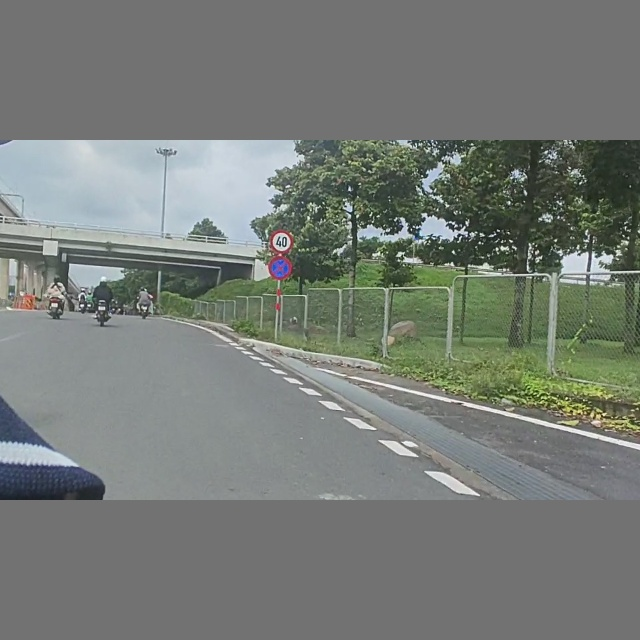P.127*40: (271, 229, 294, 253)
P.130: (269, 256, 292, 280)
